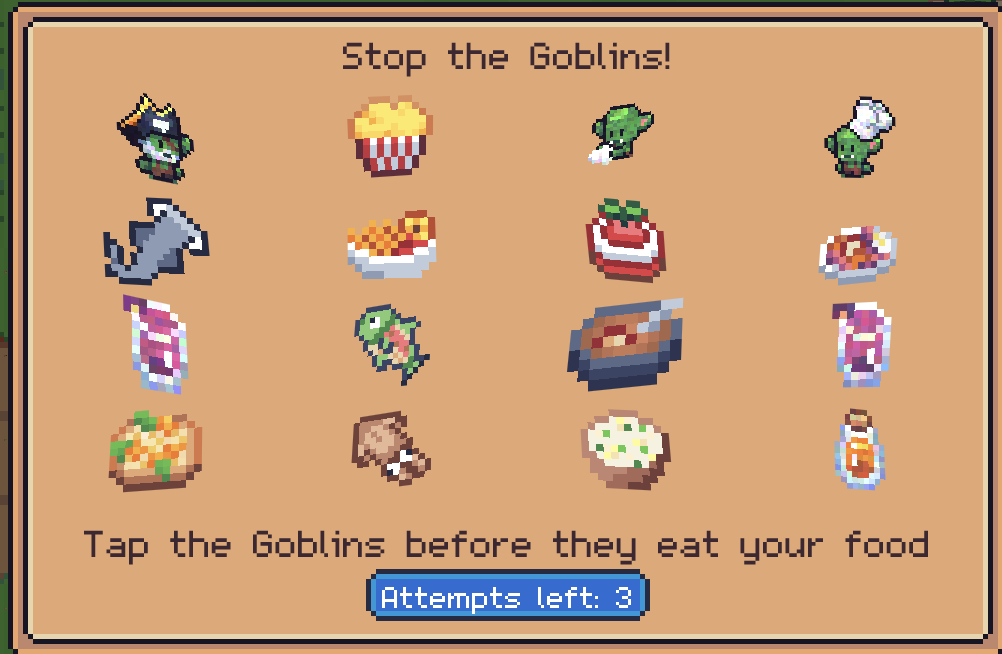capcha_goblin: (115, 94, 196, 187), (823, 94, 895, 179), (588, 100, 654, 164)
